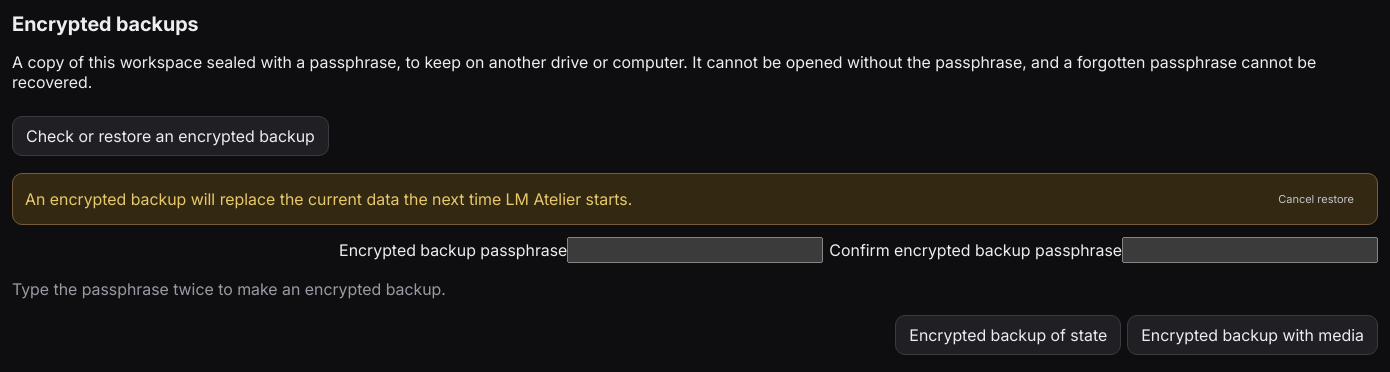
Test case: shows an encrypted restore that is waiting and cancels it
Click the button "Cancel restore".
click(1316, 199)  # box [1267,184,1365,214]
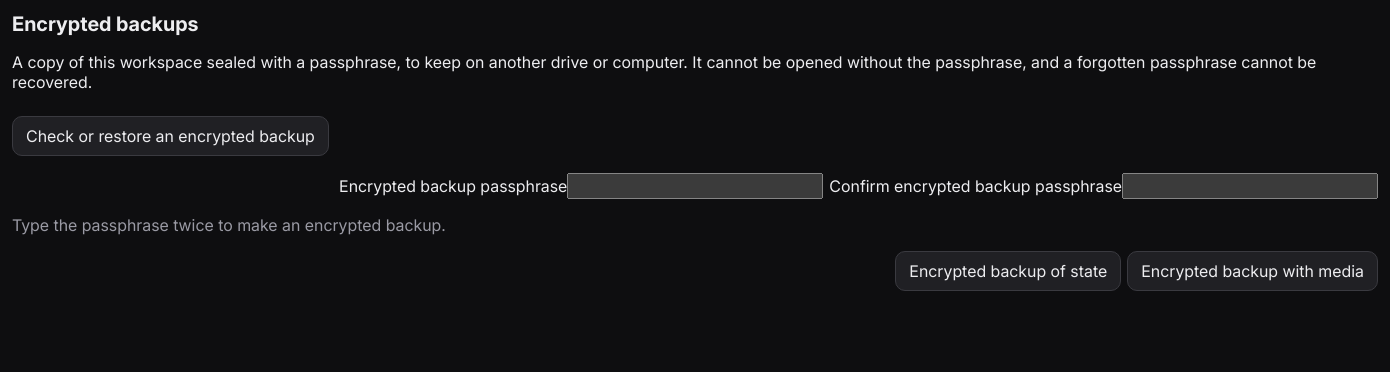
Check: the text "will replace the current data the next time LM Atelier starts" is gone
